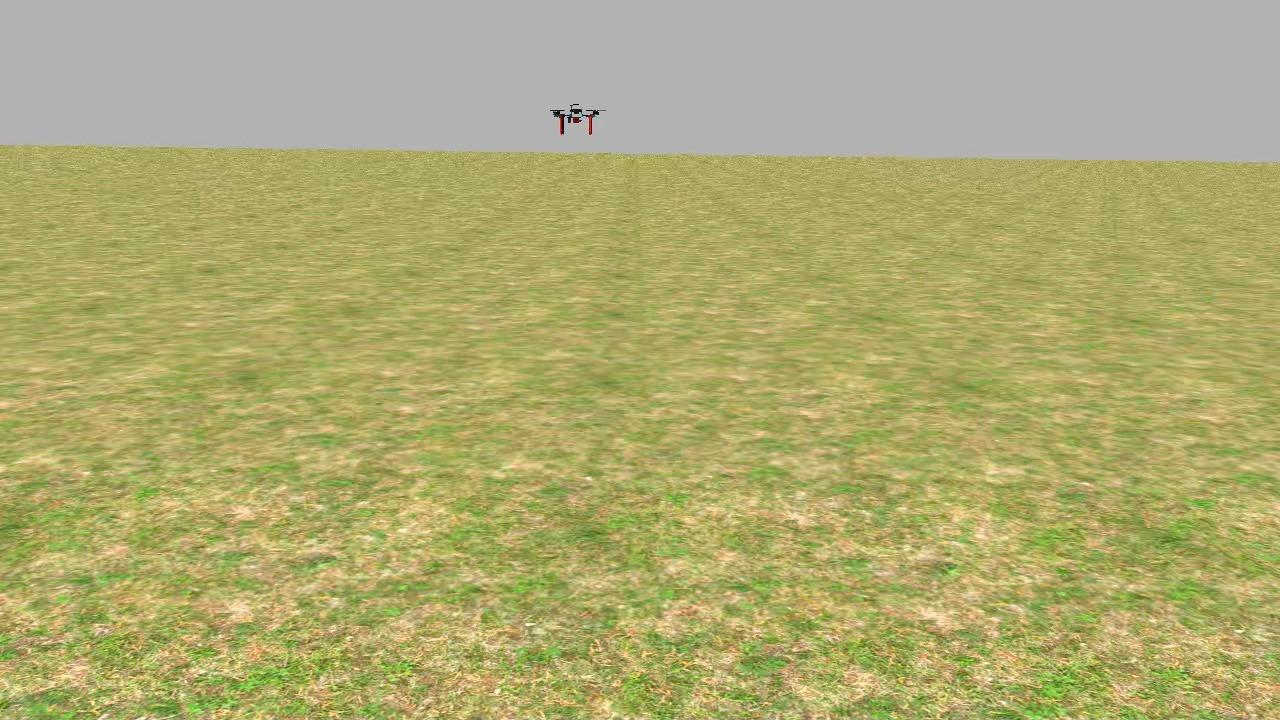UAV: (541, 96, 606, 147)
